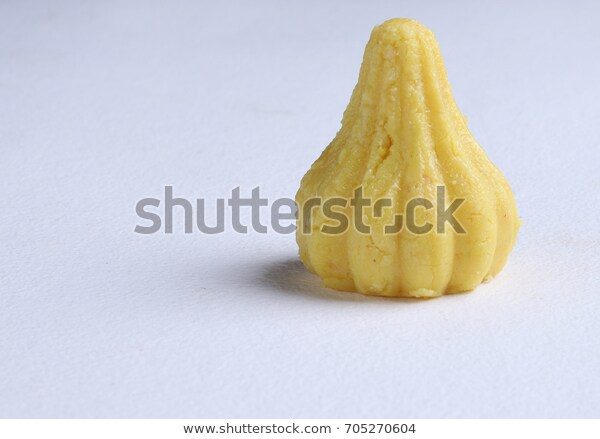modak: (269, 17, 539, 305)
